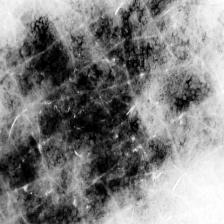Benign Marking or Mole: (10, 0, 214, 208)
